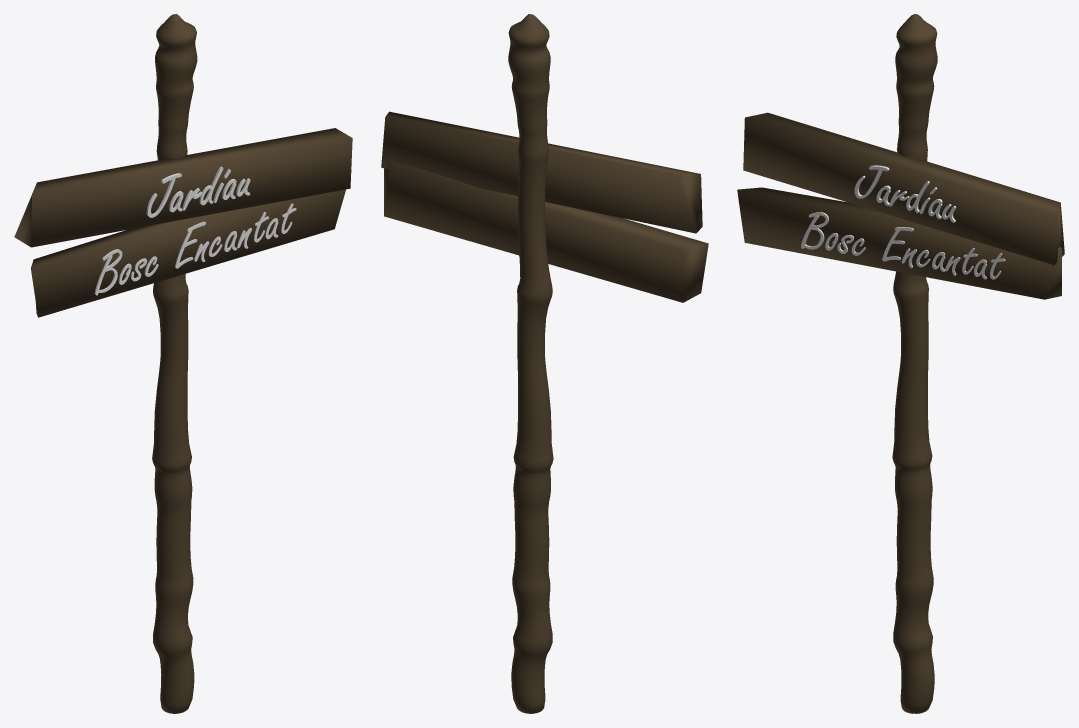
The model's file is cartel.fbx.
The picture shows the model from 3 angles, left to right: view 1: azimuth 30°, elevation 25°; view 2: azimuth 150°, elevation 25°; view 3: azimuth 330°, elevation 25°; orthographic projection.
Parts seen in each view (by area): view 1: Cube.002, Cylinder, Text.001, Text; view 2: Cube.002, Cylinder; view 3: Cube.002, Cylinder, Text.001, Text.
Part boxes in pixels (<box>): Cube.002: <box>14,128,352,317</box>; Cylinder: <box>152,14,197,713</box>; Text.001: <box>94,203,296,295</box>; Text: <box>146,166,250,217</box>; Cube.002: <box>381,111,708,302</box>; Cylinder: <box>508,14,553,713</box>; Cube.002: <box>737,112,1064,299</box>; Cylinder: <box>892,14,937,713</box>; Text.001: <box>801,212,1005,279</box>; Text: <box>854,165,956,222</box>.
Size of the model in its own units: 216 by 445 by 34.43.
